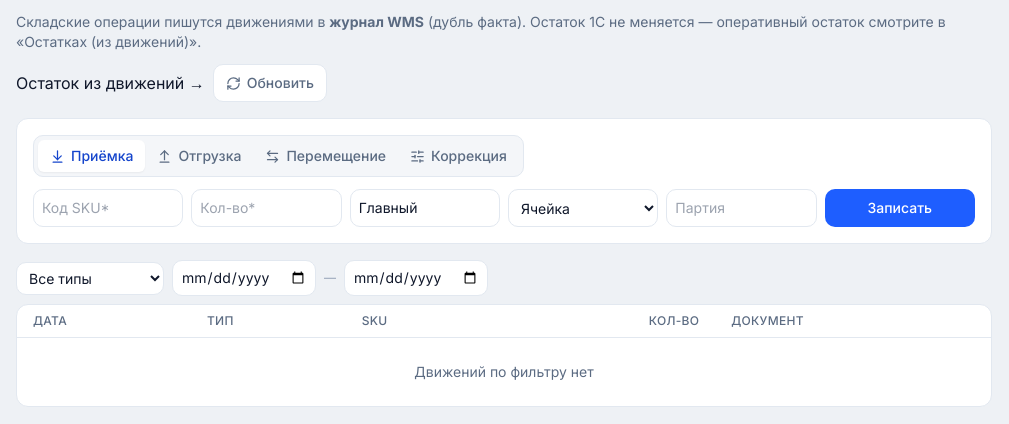
WmsMovements › кнопка «Обновить» перечитывает журнал из бэкенда
The image size is (1009, 424).
Expected: the text "Движений по фильтру нет" is shown, [17,338,991,406]
Click the button "Обновить": (270, 83) [213,64,327,102]
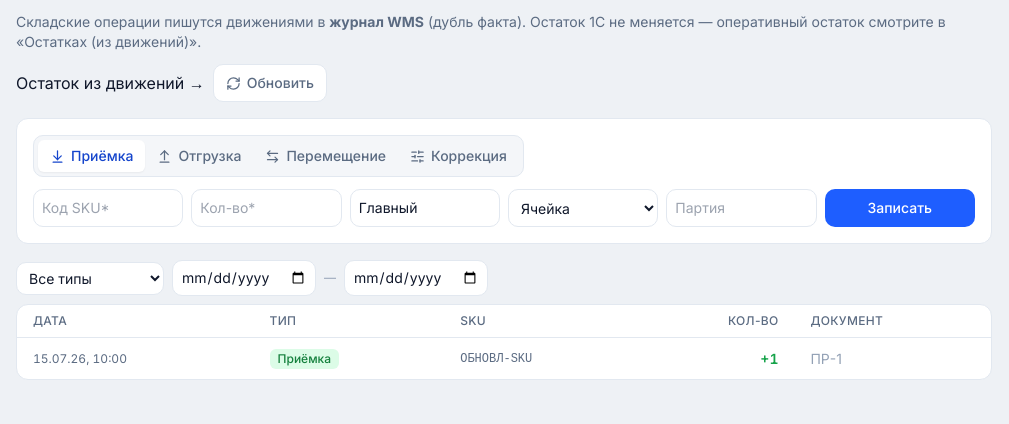
Now the text "ОБНОВЛ-SKU" is shown, box [444,338,640,379]
